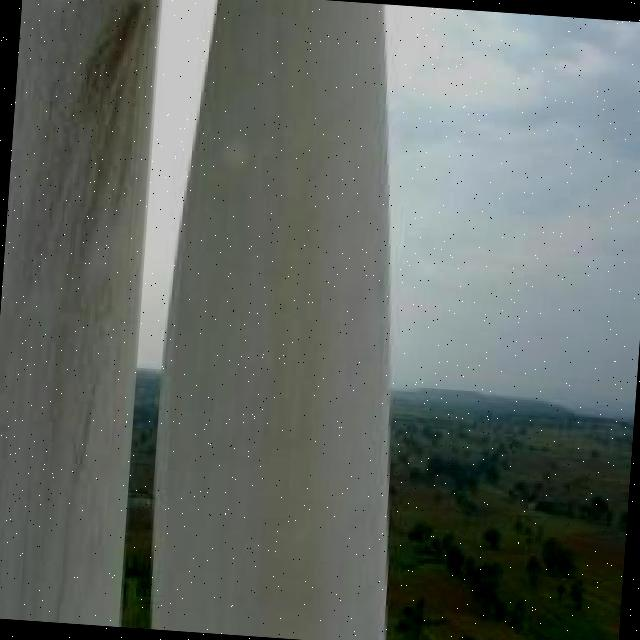Dirt: (5, 0, 153, 633)
